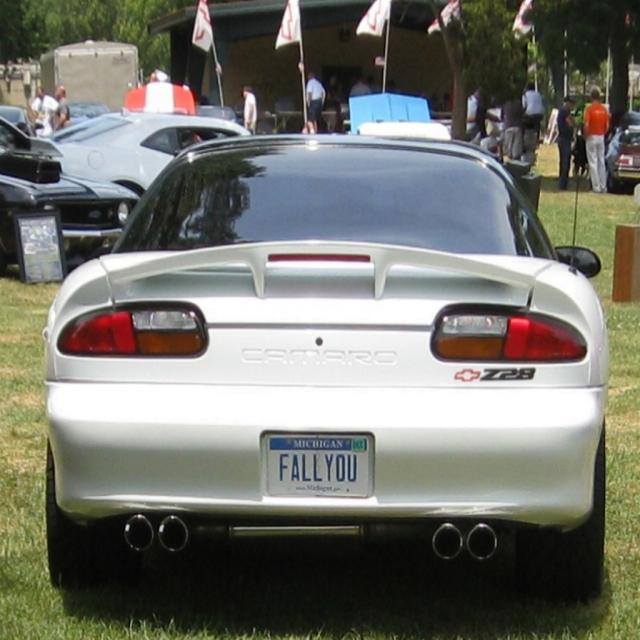Number-Plate: (266, 445, 370, 493)
